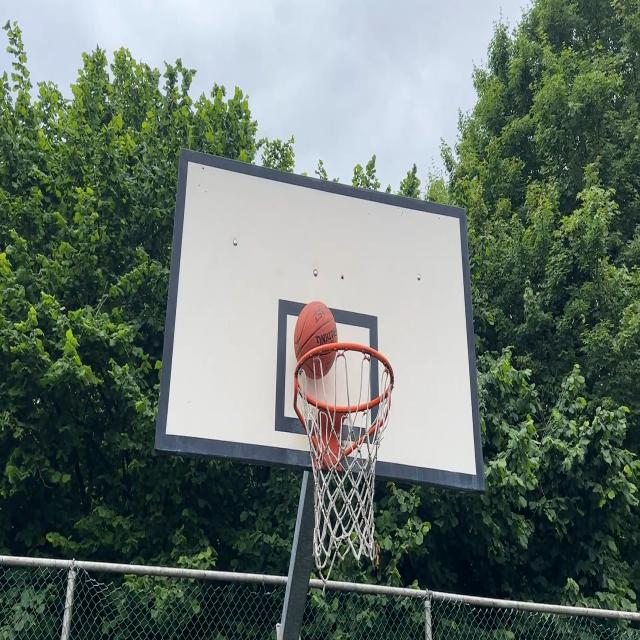rebound_hit: (293, 298, 340, 377)
